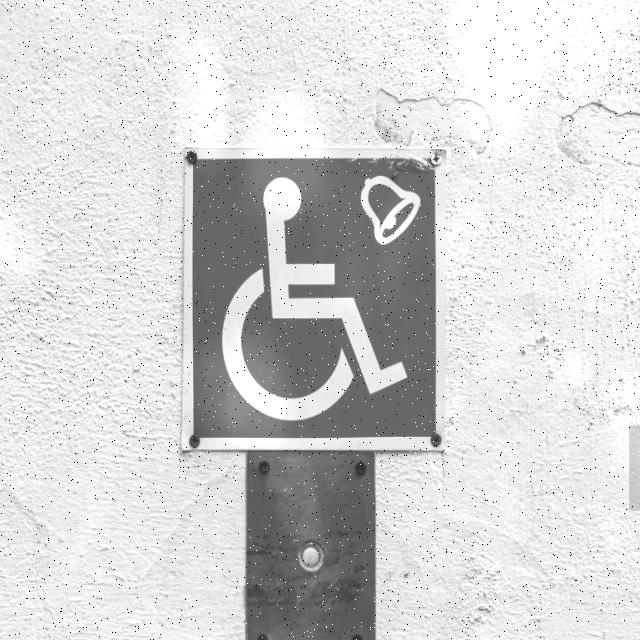symbol_of_access: (180, 141, 447, 456)
